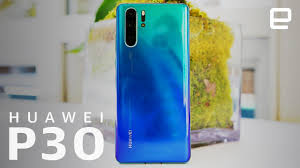huawei: (114, 1, 193, 166)
